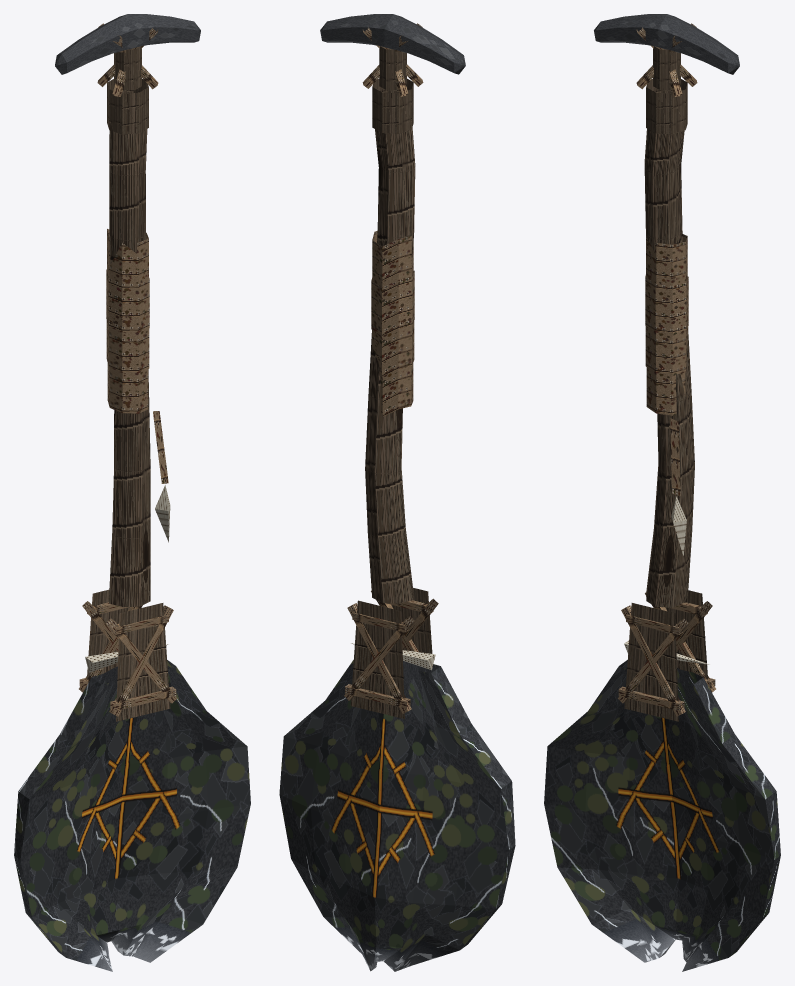
Rendered from Stone_Shovel.fbx.
The picture shows the model from 3 angles, left to right: view 1: azimuth 30°, elevation 25°; view 2: azimuth 150°, elevation 25°; view 3: azimuth 330°, elevation 25°; orthographic projection.
Visible parts, largest first — view 1: Stone_Shovel; view 2: Stone_Shovel; view 3: Stone_Shovel.
Boxes of the visible parts, x1,y1,x2,y2 form: Stone_Shovel: (14,14,250,971); Stone_Shovel: (279,14,515,971); Stone_Shovel: (544,14,780,971).
Bounding box in the file's own units: 0.296 × 0.0804 × 1.17.
1 material, 1 textured.
